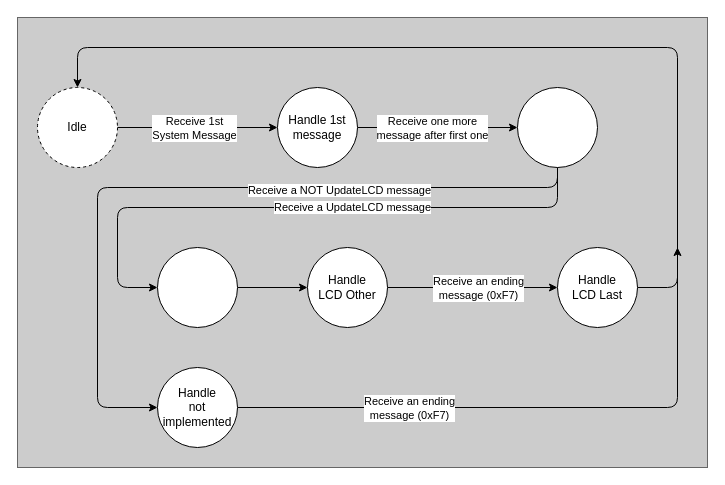
This 725x485 diagram has some shape labels left out. The shapes that lost their labels are listed below. From the top down, each one's centre as x and y in pixels, then its label:
(x=557, y=127): Handle 2nd message
(x=197, y=287): Handle LCD 1st
